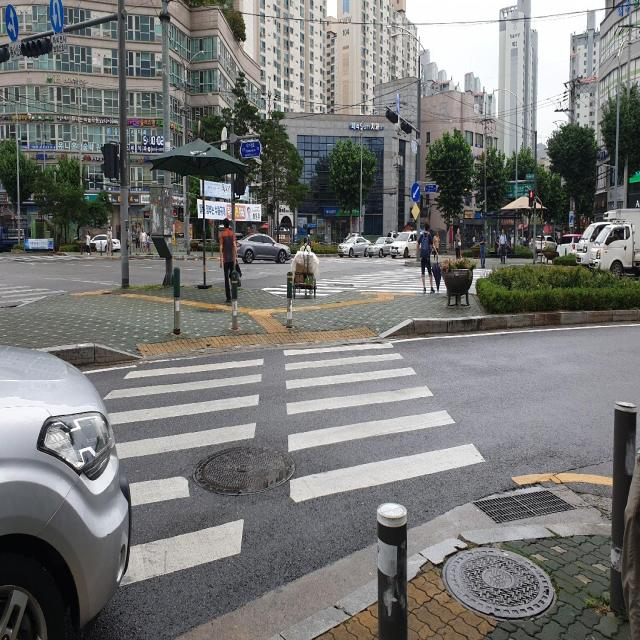zebra crossing ahead at: (278, 328, 495, 552)
